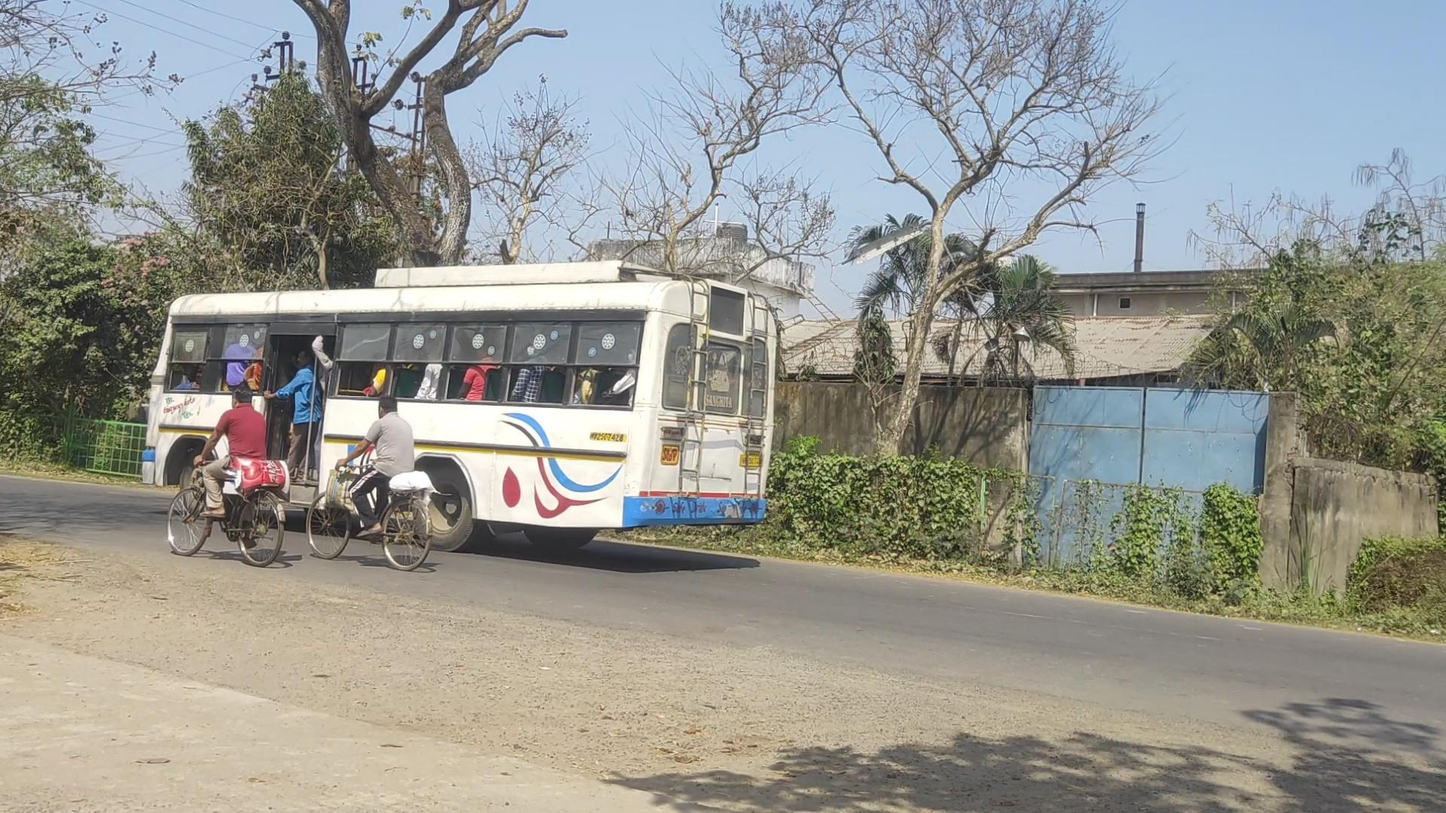Bus: (141, 260, 776, 553)
bike: (305, 394, 432, 570), (168, 385, 289, 567)
